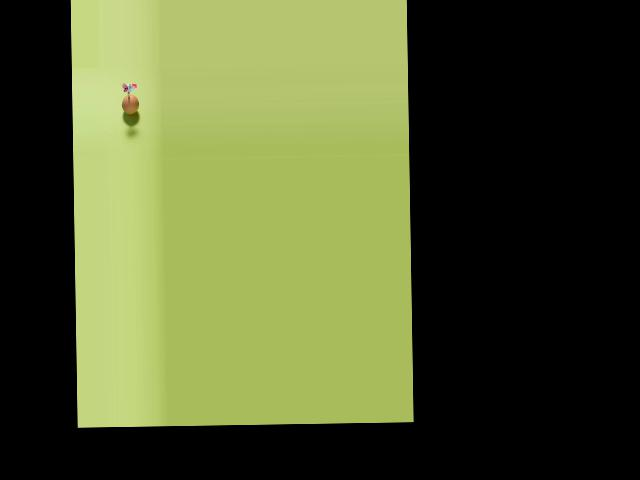egg: (121, 94, 138, 114)
